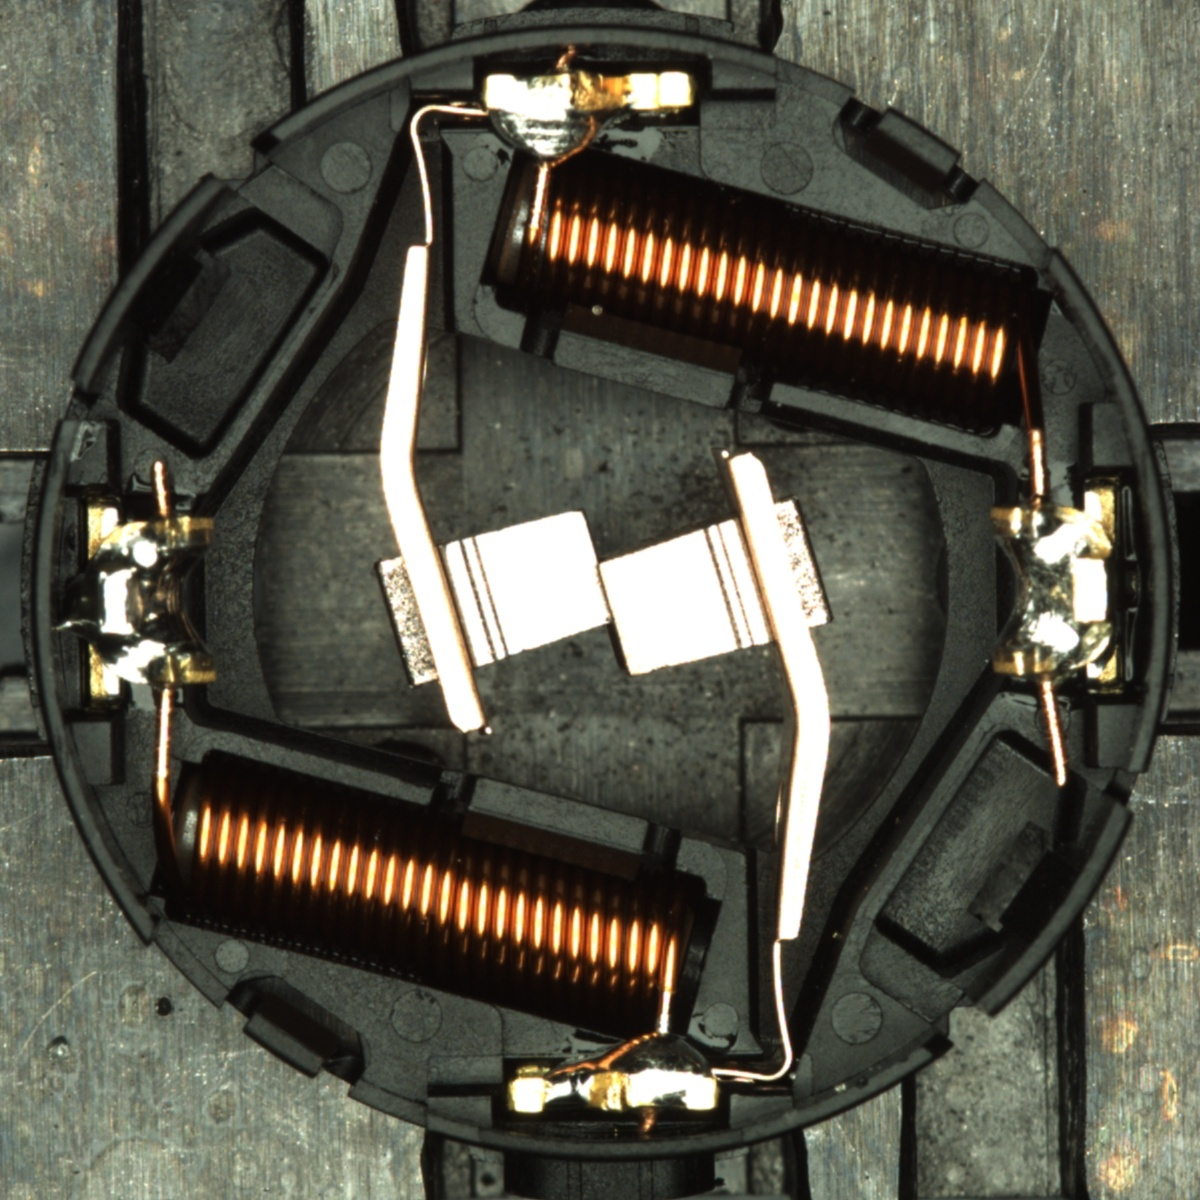1: (255, 30, 485, 255), (713, 927, 943, 1152)
2: (713, 30, 943, 255), (255, 927, 485, 1152)
3: (943, 703, 1173, 927), (26, 255, 255, 479)
4: (255, 255, 485, 479), (713, 703, 943, 927)
5: (485, 142, 713, 367), (485, 815, 713, 1040)
6: (713, 255, 943, 479), (255, 703, 485, 927)
7: (943, 255, 1173, 479), (26, 703, 255, 927)
cacbon: (399, 498, 799, 684)
chau_dien: (80, 499, 221, 700), (982, 488, 1123, 686)
tay_choi: (482, 69, 697, 171), (508, 1027, 719, 1120)
thanh_de: (951, 785, 1138, 1032), (59, 164, 244, 405)
vun_chi: (49, 577, 95, 641)
